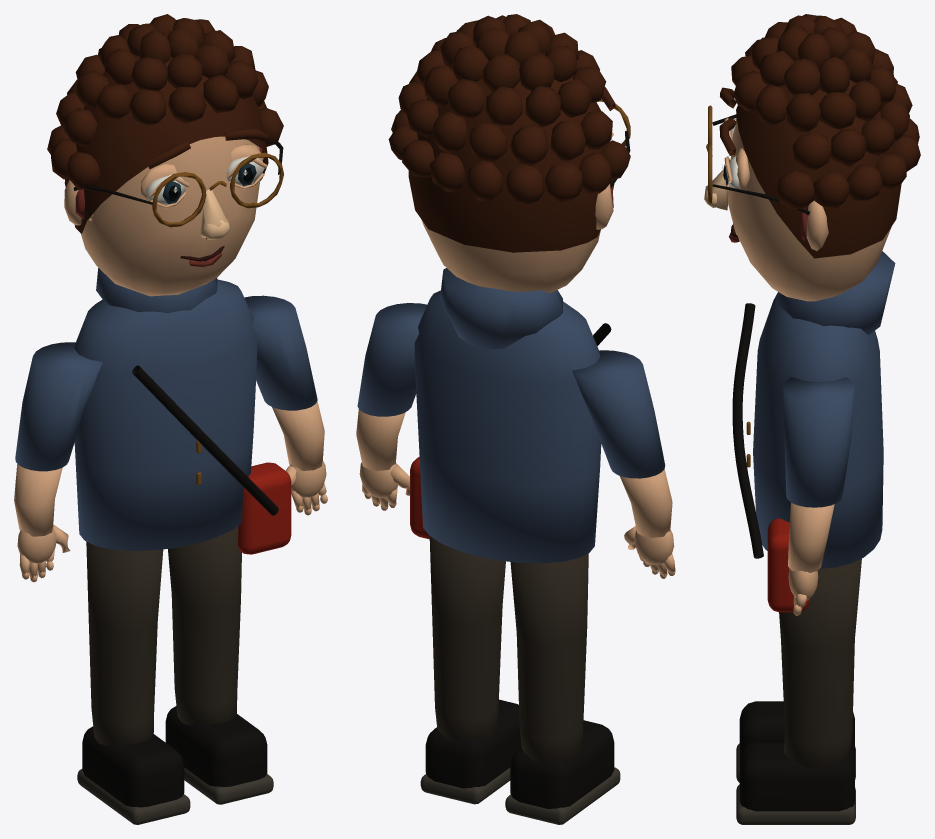
Rendered from patient-22.glb.
3 views of the same model, side by side, from view 1: azimuth 30°, elevation 25°; view 2: azimuth 150°, elevation 25°; view 3: azimuth 270°, elevation 25° (orthographic).
Visible parts, largest first — view 1: Head, Body, LegL, LegR, ArmL, ArmR; view 2: Head, Body, LegL, LegR, ArmL, ArmR; view 3: Head, Body, LegR, ArmR, LegL.
Boxes of the visible parts, x1=… form: Head: x1=47, y1=14, x2=283, y2=313; Body: x1=74, y1=279, x2=291, y2=554; LegL: x1=77, y1=541, x2=190, y2=824; LegR: x1=165, y1=526, x2=273, y2=804; ArmL: x1=14, y1=342, x2=102, y2=582; ArmR: x1=244, y1=295, x2=327, y2=515; Head: x1=388, y1=14, x2=630, y2=349; Body: x1=410, y1=290, x2=611, y2=563; LegL: x1=505, y1=553, x2=620, y2=824; LegR: x1=420, y1=536, x2=521, y2=804; ArmL: x1=572, y1=350, x2=675, y2=578; ArmR: x1=356, y1=303, x2=426, y2=510; Head: x1=704, y1=14, x2=920, y2=334; Body: x1=732, y1=292, x2=883, y2=612; LegR: x1=736, y1=558, x2=861, y2=824; ArmR: x1=783, y1=377, x2=854, y2=615; LegL: x1=736, y1=701, x2=855, y2=782.
Size of the model in its own units: 0.6529 by 1.55 by 0.3958.
